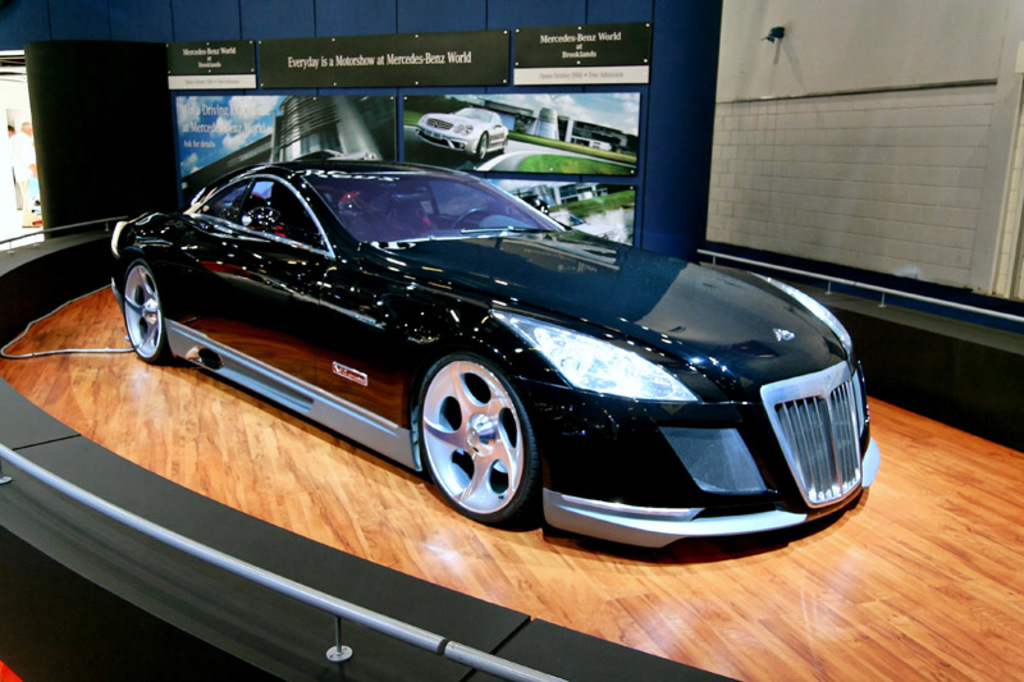Car: (107, 157, 881, 554), (416, 106, 508, 152)
